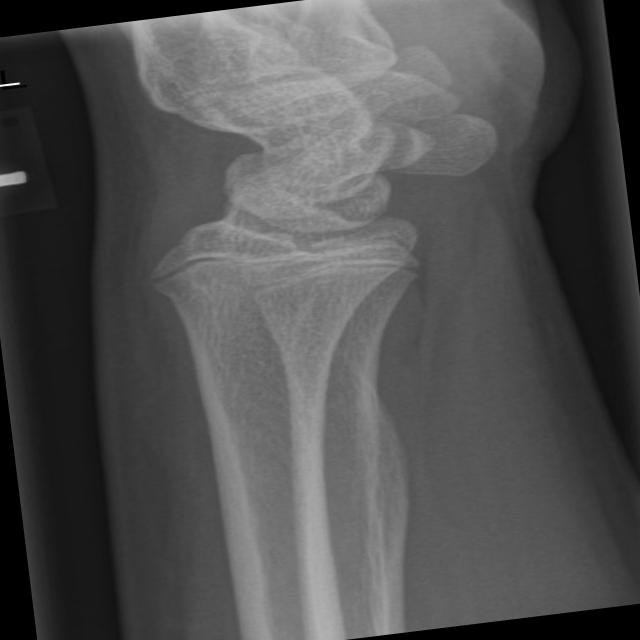fracture: (125, 212, 437, 300), (234, 238, 442, 313)
